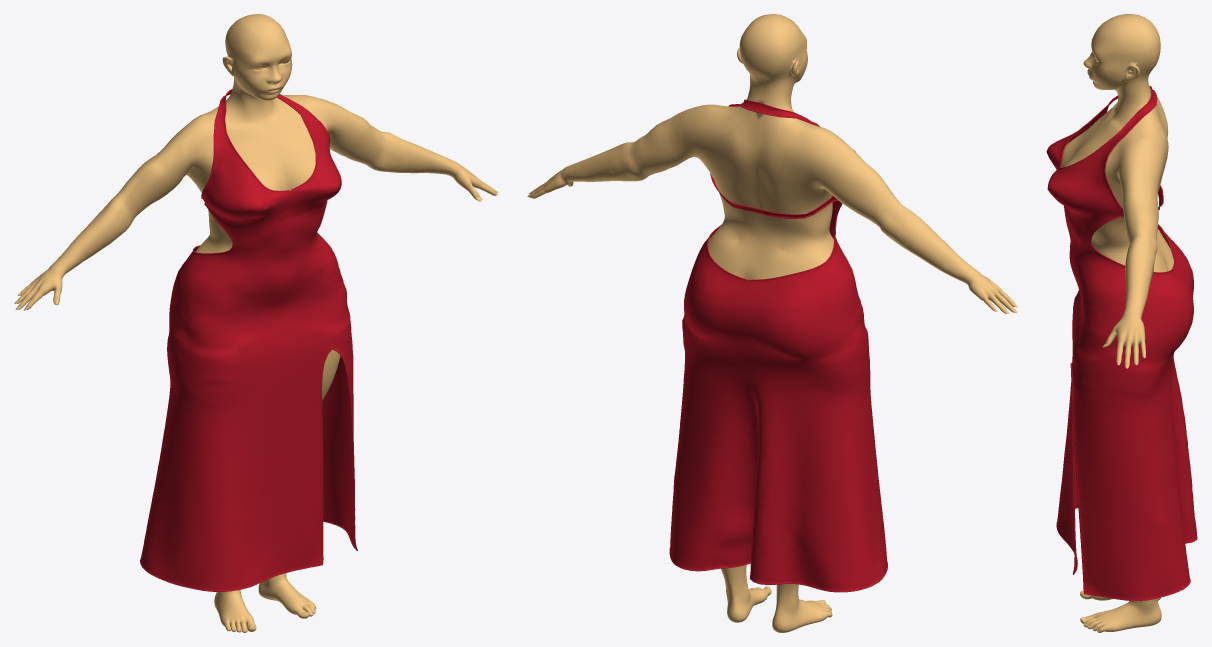
The model's file is dress3.glb.
3 views of the same model, side by side, from view 1: azimuth 30°, elevation 25°; view 2: azimuth 150°, elevation 25°; view 3: azimuth 270°, elevation 25° (orthographic).
Visible parts, largest first — view 1: EveningDress, Body; view 2: EveningDress, Body; view 3: EveningDress, Body.
Part boxes in pixels (x1=…): EveningDress: x1=140, y1=89, x2=357, y2=591; Body: x1=17, y1=14, x2=497, y2=632; EveningDress: x1=669, y1=99, x2=887, y2=592; Body: x1=529, y1=14, x2=1014, y2=632; EveningDress: x1=1046, y1=86, x2=1197, y2=601; Body: x1=1060, y1=14, x2=1173, y2=632.
Size of the model in its own units: 1.58 by 1.85 by 0.4261.
